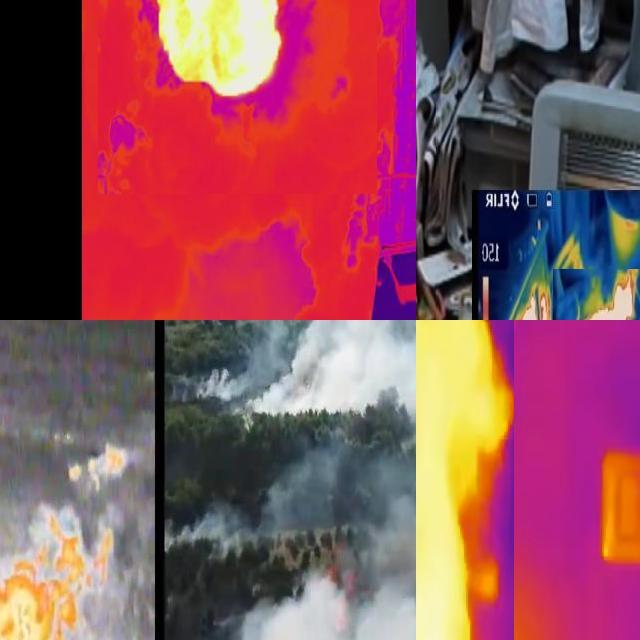fire: (417, 321, 515, 640), (153, 1, 288, 103), (583, 273, 640, 321), (516, 280, 551, 321)
